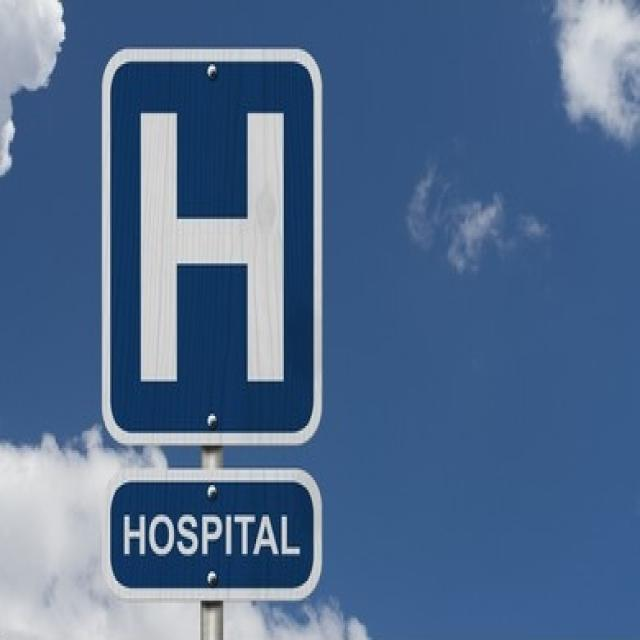hospital ahead: (121, 88, 305, 401)
